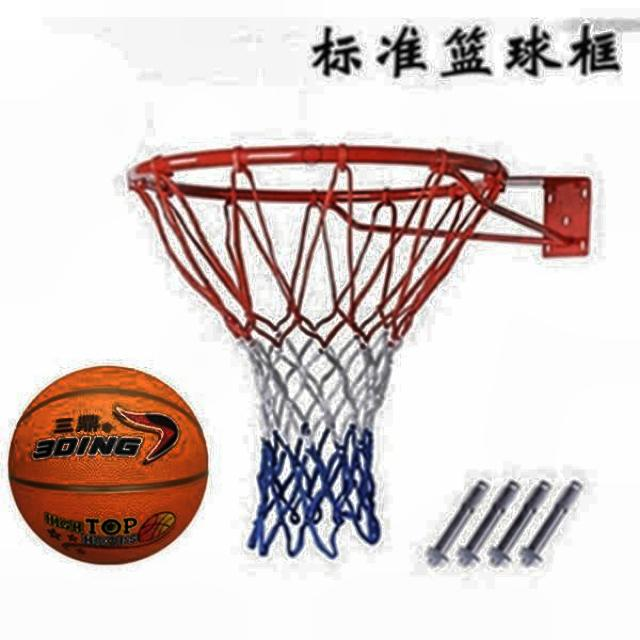board: (8, 363, 209, 565)
rim: (130, 144, 501, 549)
